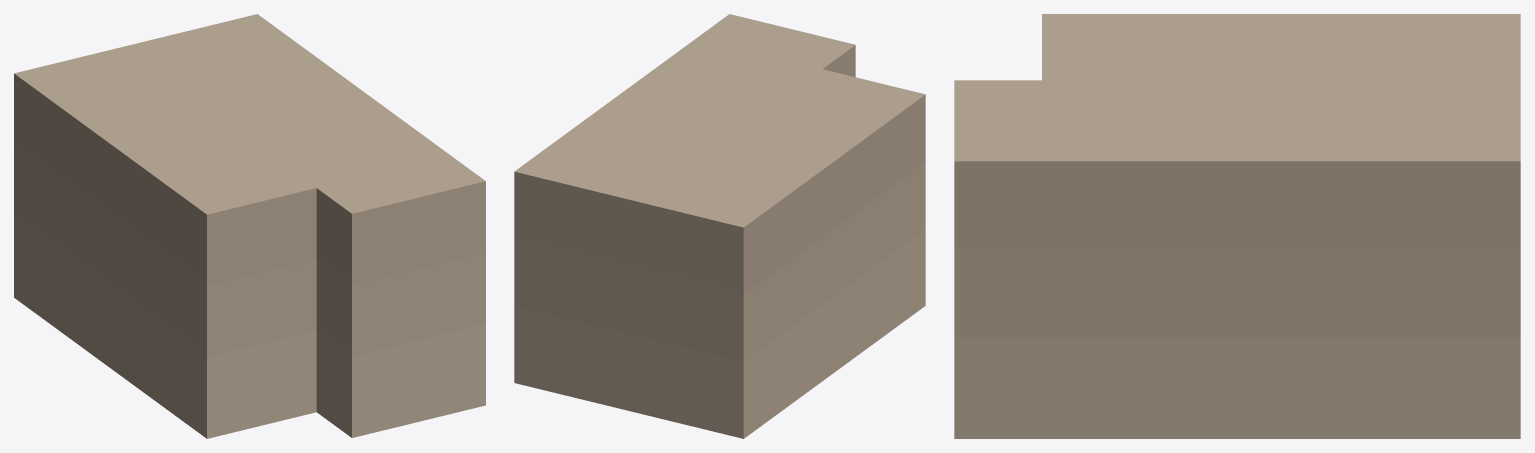
Rendered from massing.glb.
The picture shows the model from 3 angles, left to right: view 1: azimuth 30°, elevation 25°; view 2: azimuth 150°, elevation 25°; view 3: azimuth 270°, elevation 25°; orthographic projection. The views are drawn at different scales.
Visible parts, largest first — view 1: main/floor3/0/0, main/floor1/0/0, main/floor2/0/0; view 2: main/floor3/0/0, main/floor1/0/0, main/floor2/0/0; view 3: main/floor3/0/0, main/floor1/0/0, main/floor2/0/0.
Part boxes in pixels (x1,y1,x2,y2): main/floor3/0/0: (14, 14, 485, 285); main/floor1/0/0: (14, 216, 485, 438); main/floor2/0/0: (14, 145, 485, 357); main/floor3/0/0: (514, 14, 925, 294); main/floor1/0/0: (514, 229, 925, 438); main/floor2/0/0: (514, 162, 925, 361); main/floor3/0/0: (954, 14, 1520, 249); main/floor1/0/0: (954, 338, 1520, 438); main/floor2/0/0: (954, 249, 1520, 337).
Bounding box in the file's own units: 10 × 8.8 × 16.25.
